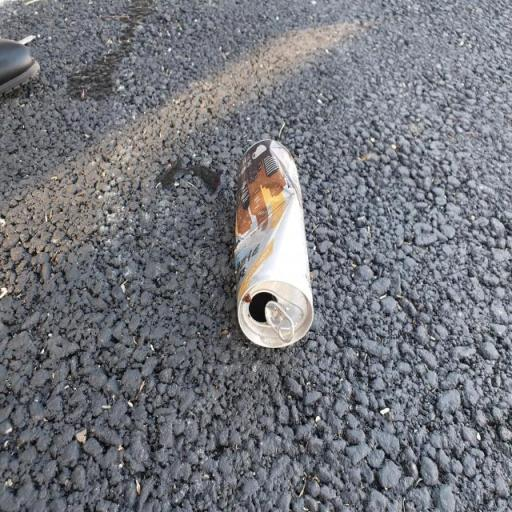metal: (220, 104, 316, 398)
